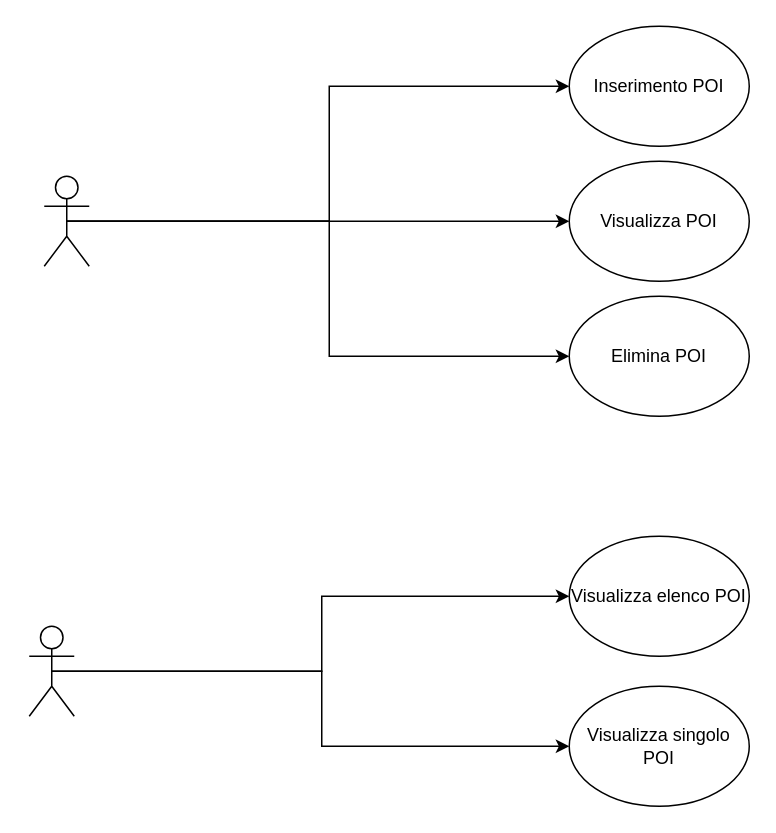
Image size: 776x833. Some labels were removed from this diagram. Each missing label, with the box of its shape:
Admin: (43, 175, 89, 266)
Utente: (28, 625, 74, 716)
